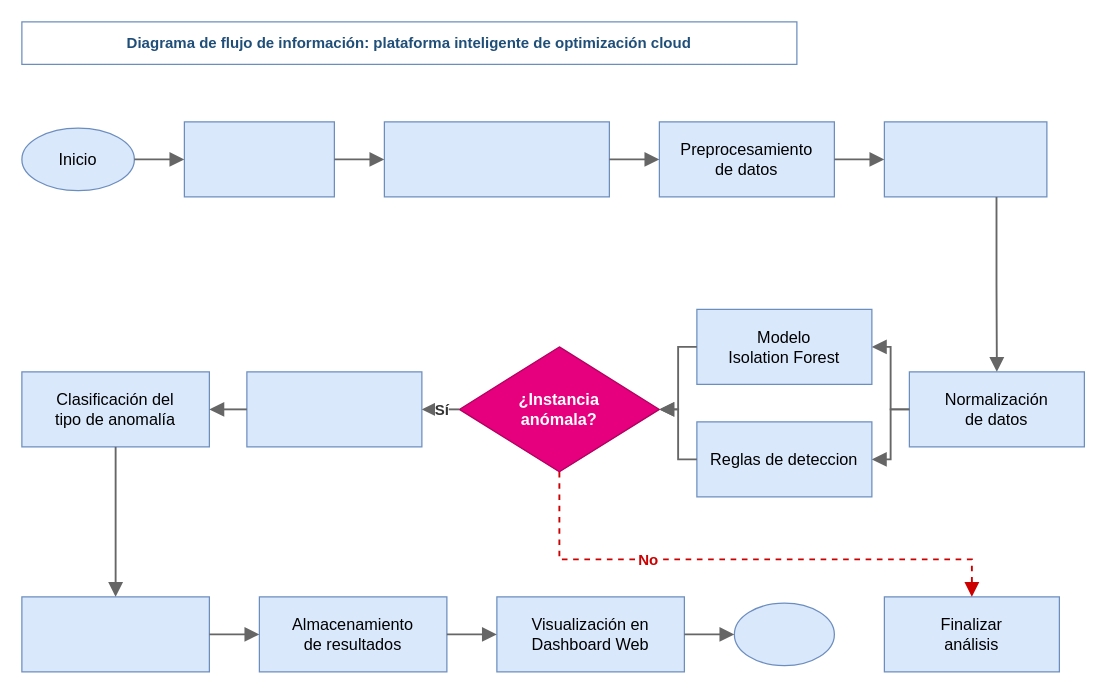
Some shapes in this 1106 by 694 pixel diagram are drawn without their labels. Here are the shapes that lost their labels. From the top down, the centre of each, then its label:
At point 258,159: "Huawei Cloud".
At point 496,159: "Obtención de métricas (CPU, memoria, disco, red)".
At point 965,159: "Feature Engineering".
At point 334,409: "Motor de Recomendaciones".
At point 115,634: "Generación de recomendaciones".
At point 783,634: "Fin".
